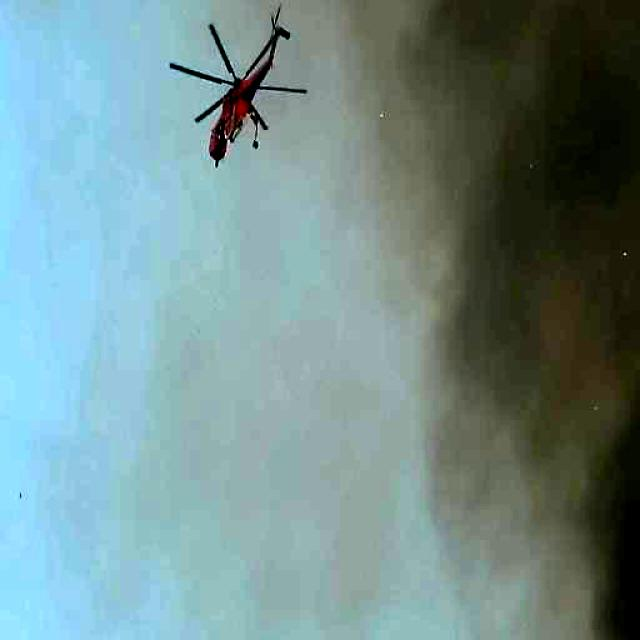drone: (170, 10, 305, 180)
